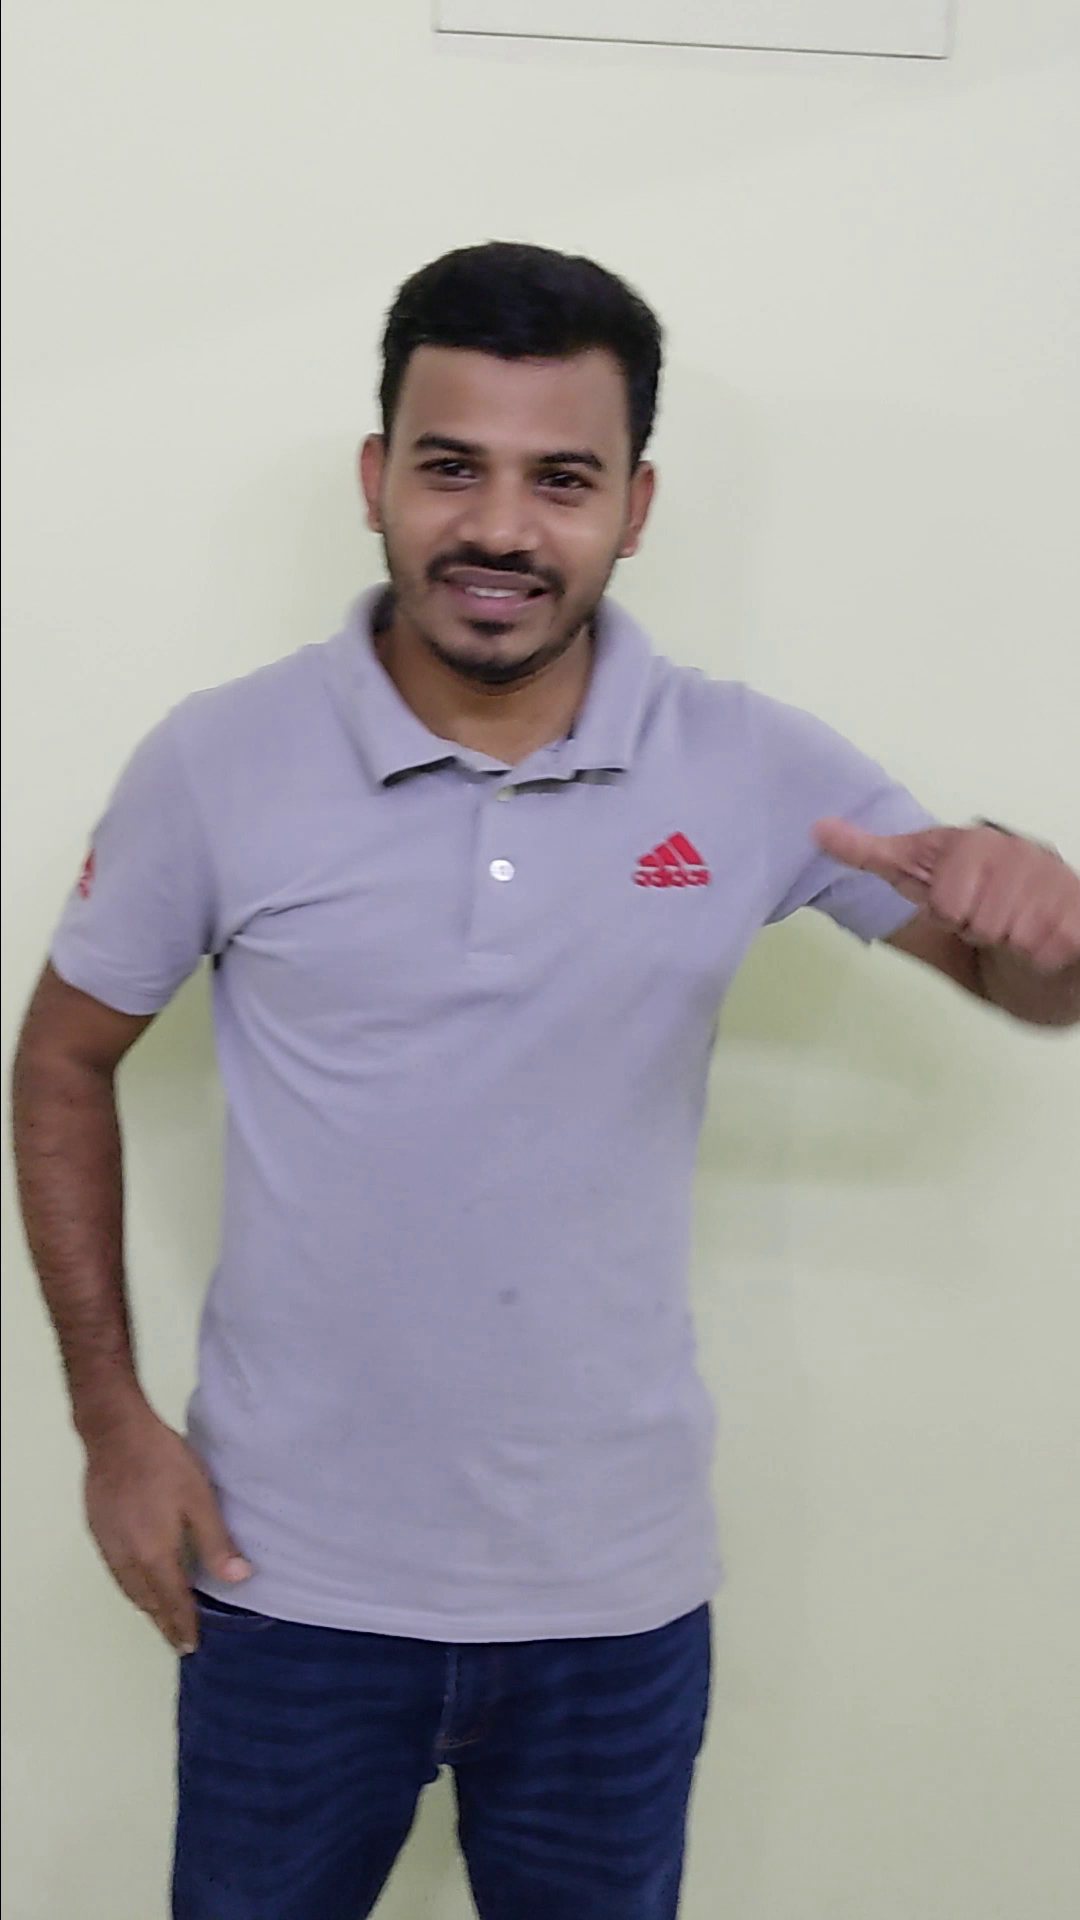Like: (798, 793, 1080, 997)
None: (65, 1382, 282, 1683)
